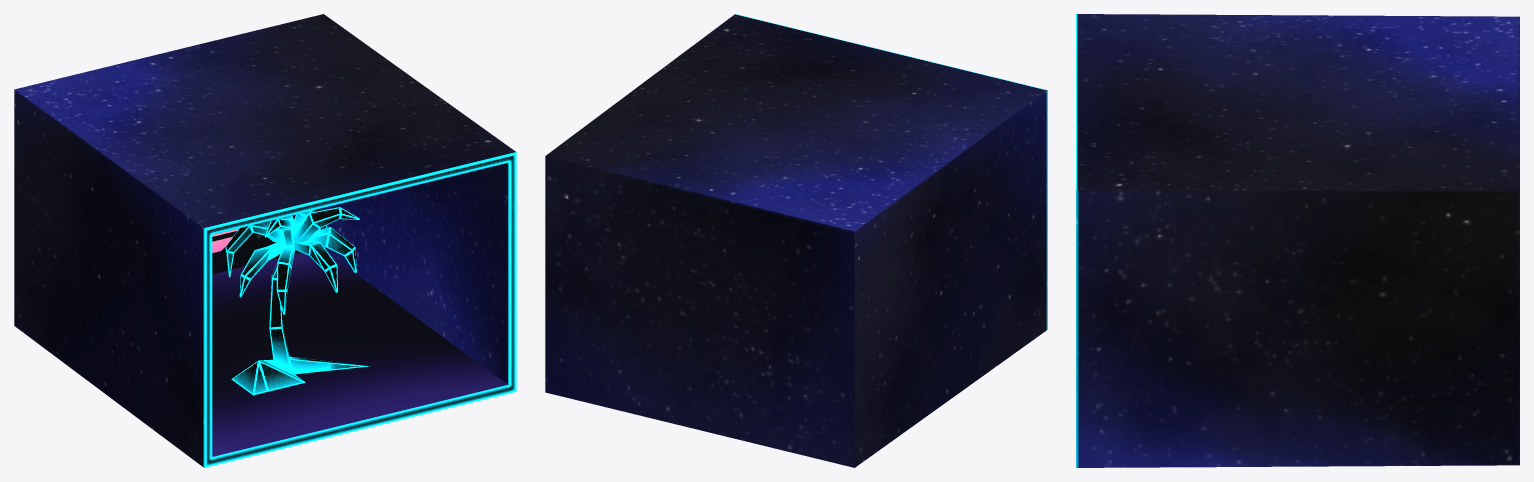
3 views of the same model, side by side, from view 1: azimuth 30°, elevation 25°; view 2: azimuth 150°, elevation 25°; view 3: azimuth 270°, elevation 25° (orthographic). The views are drawn at different scales.
Visible parts, largest first — view 1: synthwave; view 2: synthwave; view 3: synthwave.
Boxes of the visible parts, box(x1,y1,x2,y2) form: synthwave: box(14, 14, 516, 467); synthwave: box(545, 14, 1047, 467); synthwave: box(1076, 14, 1519, 467).
Size of the model in its own units: 21.85 by 16.01 by 23.2.
1 material, 1 textured.
